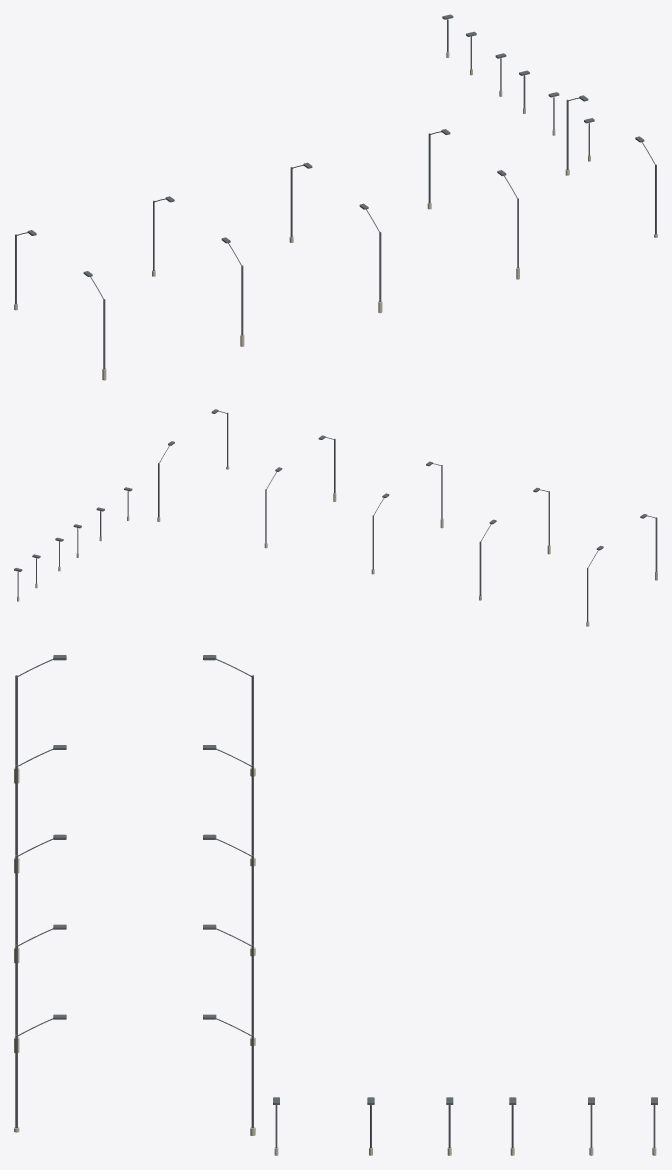
The picture shows the model from 3 angles, top to bottom: view 1: azimuth 30°, elevation 25°; view 2: azimuth 150°, elevation 25°; view 3: azimuth 270°, elevation 25°; orthographic projection. The views are drawn at different scales.
Parts seen in each view (by area): view 1: buildings_s_-9_5_Dark_Metal, buildings_s_-9_5_Warm_Limestone; view 2: buildings_s_-9_5_Dark_Metal, buildings_s_-9_5_Warm_Limestone; view 3: buildings_s_-9_5_Dark_Metal, buildings_s_-9_5_Warm_Limestone.
Part boxes in pixels (x1,y1,x2,y2): buildings_s_-9_5_Dark_Metal: (15, 14, 656, 369); buildings_s_-9_5_Warm_Limestone: (14, 51, 657, 380); buildings_s_-9_5_Dark_Metal: (14, 409, 657, 622); buildings_s_-9_5_Warm_Limestone: (17, 466, 657, 626); buildings_s_-9_5_Dark_Metal: (15, 655, 657, 1148); buildings_s_-9_5_Warm_Limestone: (14, 767, 656, 1155).
Bounding box in the file's own units: 115 × 17.75 × 81.79.
